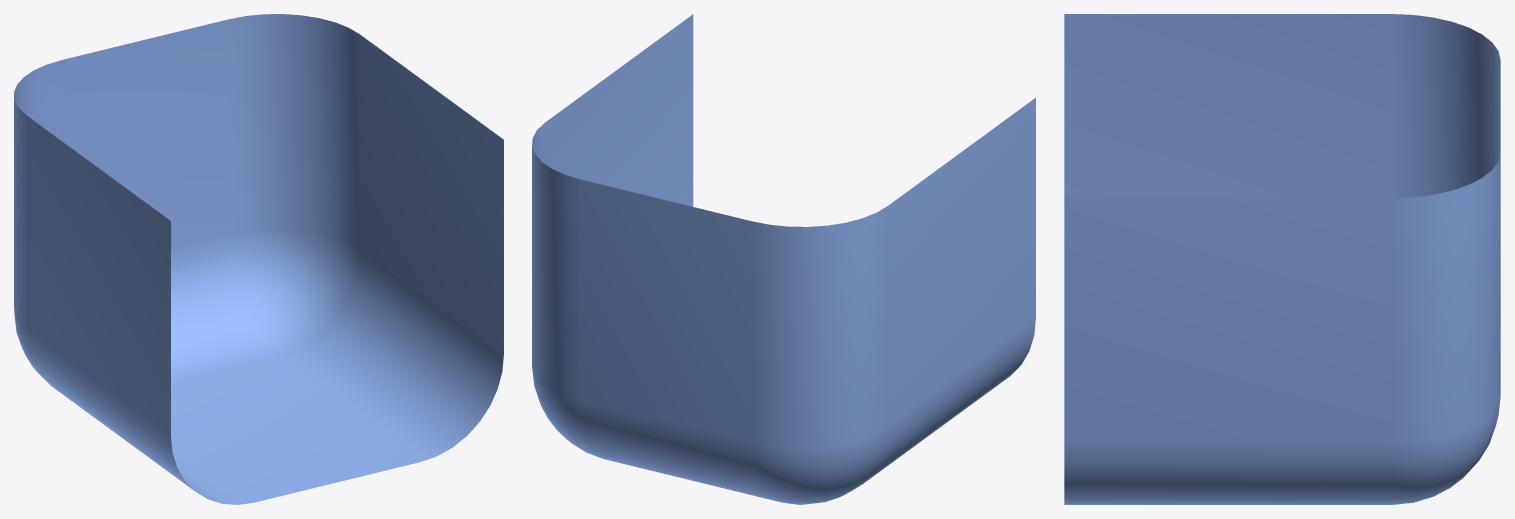
3 renders of one model, left to right at view 1: azimuth 30°, elevation 25°; view 2: azimuth 150°, elevation 25°; view 3: azimuth 270°, elevation 25°, orthographic. The views are drawn at different scales.
Visible parts, largest first — view 1: Plane; view 2: Plane; view 3: Plane.
Part boxes in pixels (box(x1,y1,x2,y2)): Plane: box(14, 14, 503, 504); Plane: box(532, 14, 1035, 504); Plane: box(1064, 14, 1500, 504).
Size of the model in its own units: 20 by 17.33 by 20.
